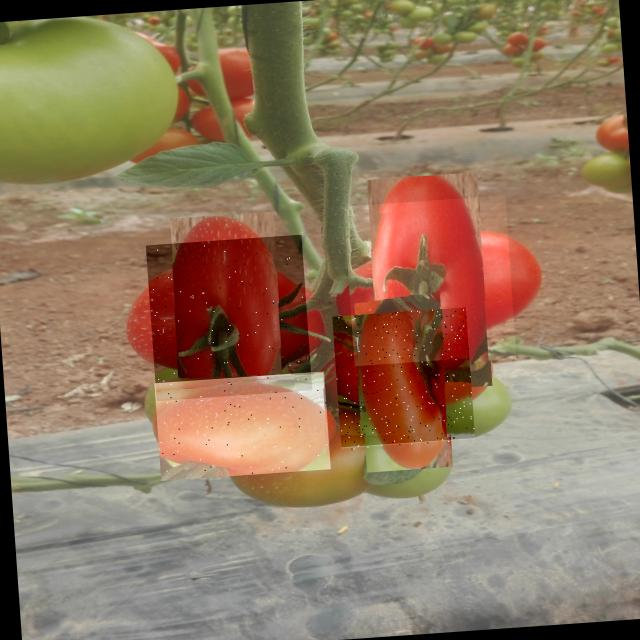Ripe Tomato: (343, 195, 516, 370), (145, 234, 312, 401), (332, 308, 475, 450), (153, 370, 330, 480)
